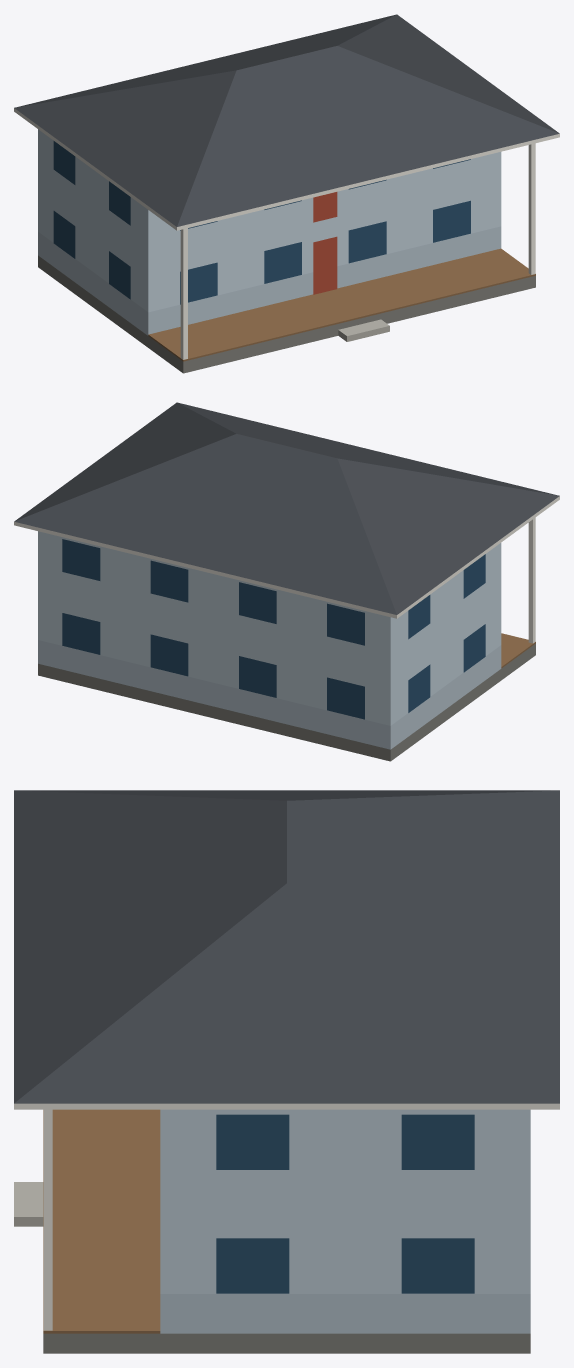
Rendered from house_14x10_2f_lod1.glb.
3 views of the same model, one above another, from view 1: azimuth 30°, elevation 25°; view 2: azimuth 150°, elevation 25°; view 3: azimuth 270°, elevation 25° (orthographic). The views are drawn at different scales.
Visible parts, largest first — view 1: house; view 2: house; view 3: house.
Part boxes in pixels (bbox=[...]): house: bbox=[14, 14, 559, 373]; house: bbox=[14, 402, 559, 761]; house: bbox=[14, 790, 559, 1353].
Bounding box in the file's own units: 15.2 × 8.31 × 11.2.
